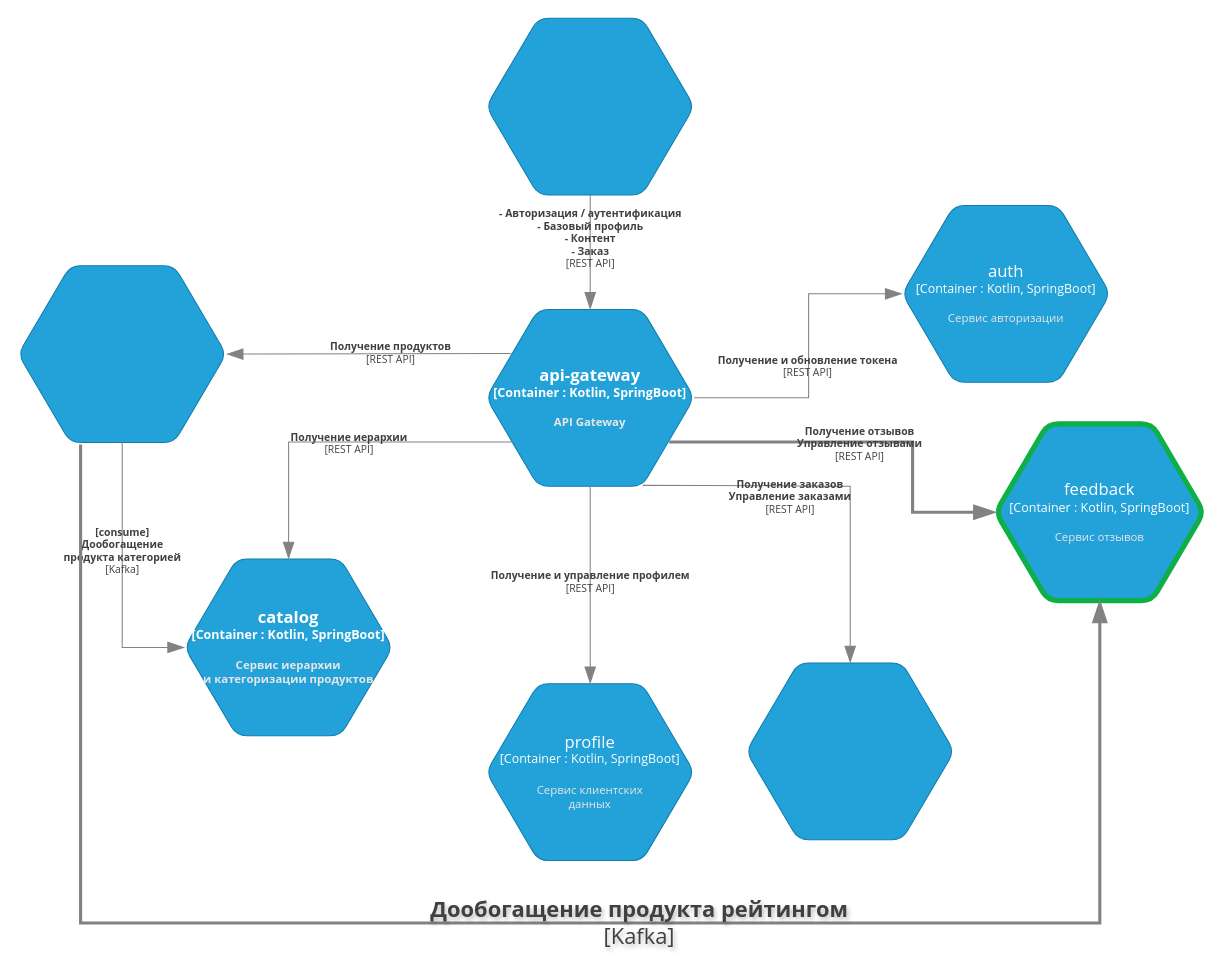
This 1224x967 diagram has some shape labels left out. Here are the shapes that lost their labels. From the top down, the box of each, then its label:
(485, 17, 694, 195): app [Container : React Native] Моб. приложение
(17, 265, 226, 443): product [Container : Kotlin, SpringBoot] Сервис продуктов
(745, 662, 954, 840): order [Container : Kotlin, SpringBoot] Сервис заказов
